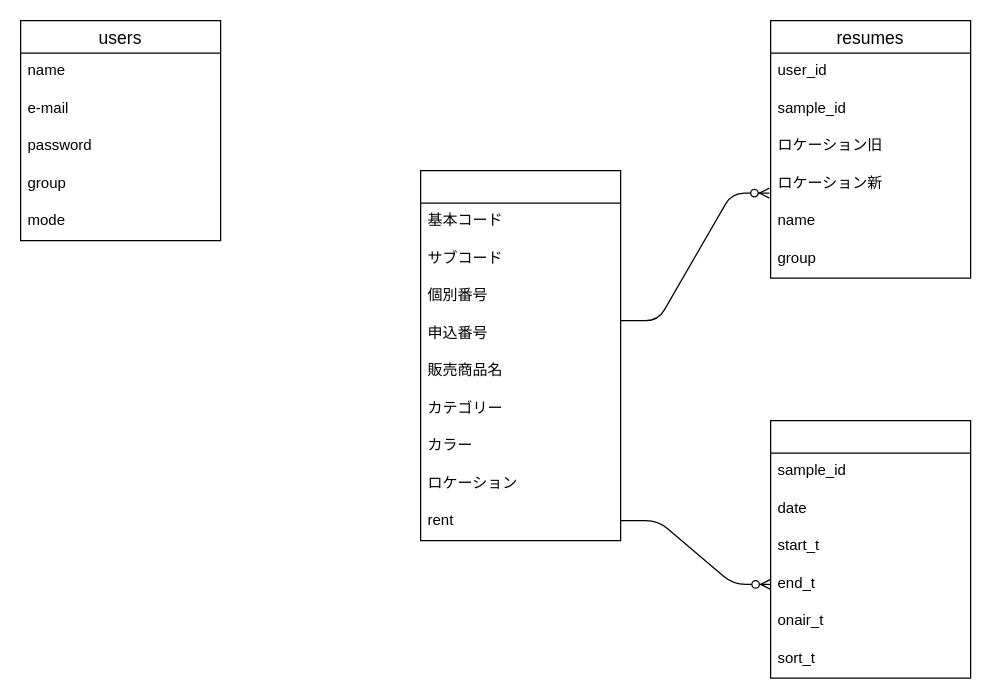
The diagram is 991 pixels wide and 699 high, and some of its shapes have lost their labels. The shapes that lost their labels are listed below. From the top down, each one's box as (x1, y1, x2, y2) in pixels, then its label:
(419, 169, 621, 541): samples
(769, 419, 971, 678): air_times
